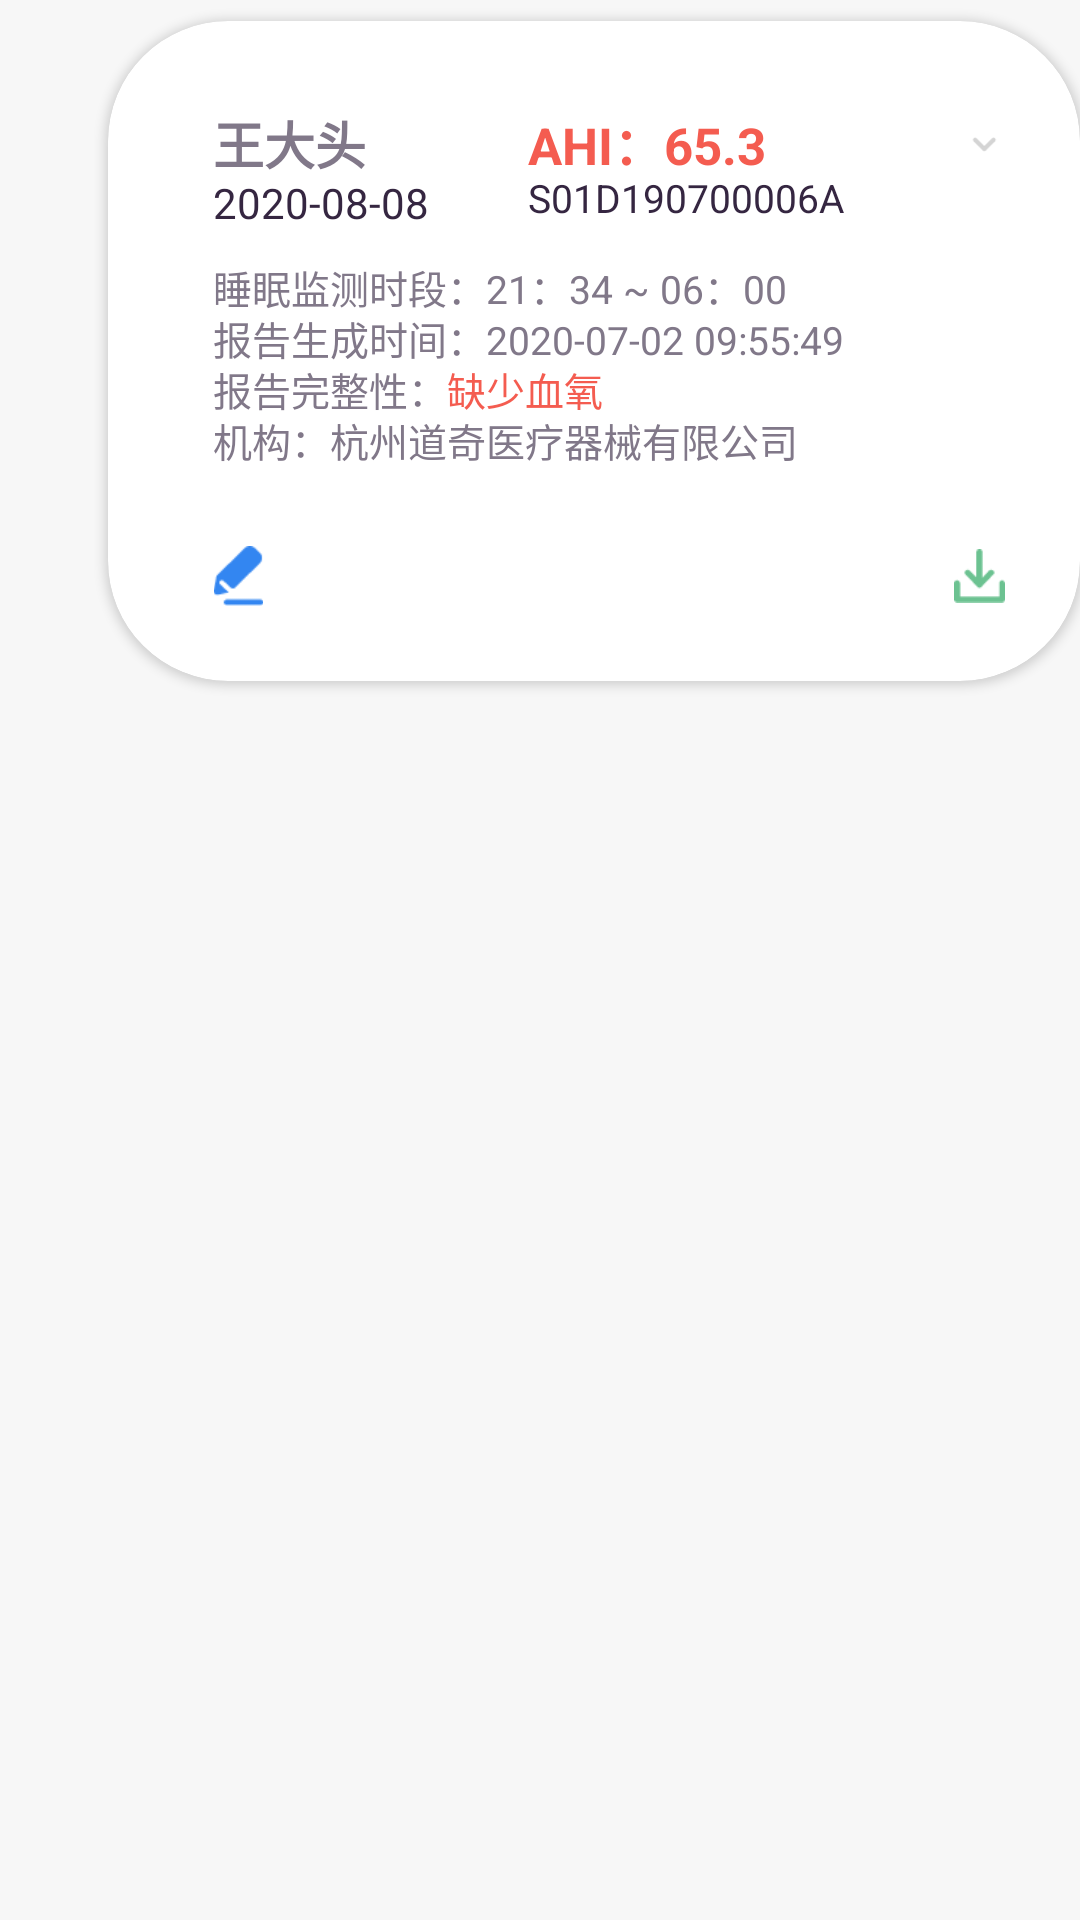

Where icons sit on this 1080px×1920px app screen, as (x1, y1, x2, y2):
report edit: (214, 546, 263, 606)
report item download: (954, 549, 1005, 603)
